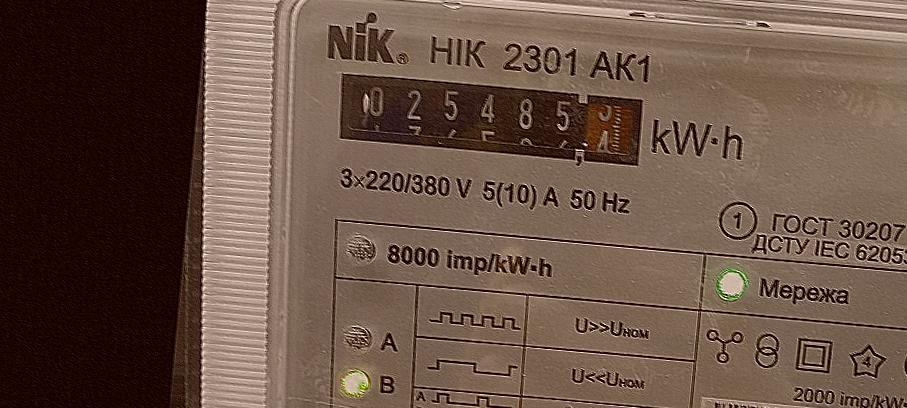0: (364, 82, 388, 119)
2: (402, 86, 426, 122)
4: (476, 89, 500, 125), (592, 126, 614, 156)
5: (550, 96, 574, 135), (439, 86, 462, 123)
8: (514, 93, 537, 133)
screen: (326, 63, 653, 178)
